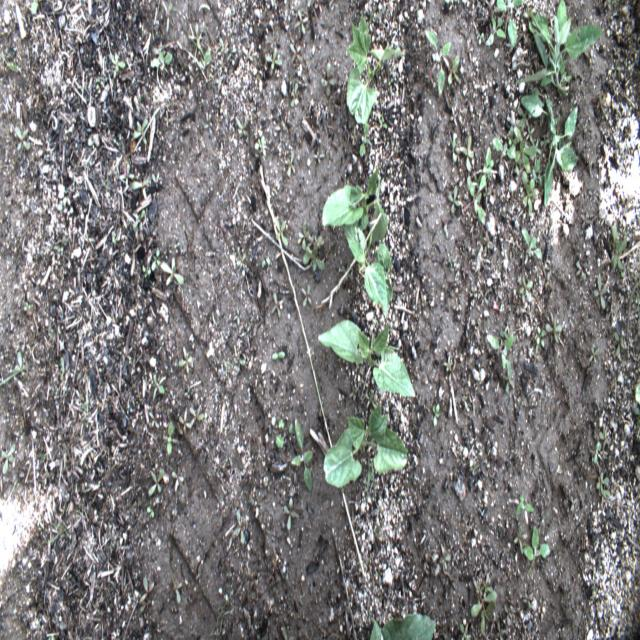crop: (321, 165, 392, 316), (318, 319, 416, 398), (322, 400, 409, 487), (346, 10, 401, 124), (368, 610, 436, 640)
weed: (526, 0, 604, 92), (522, 93, 578, 208), (424, 29, 452, 101), (293, 417, 314, 493), (469, 581, 497, 635), (484, 328, 517, 371), (496, 0, 523, 48), (522, 526, 551, 563), (610, 222, 628, 279), (522, 158, 550, 192), (160, 256, 185, 288), (512, 138, 536, 169), (6, 349, 28, 382), (521, 228, 543, 259), (522, 171, 538, 213), (491, 136, 518, 160), (478, 146, 492, 192), (486, 16, 507, 46), (132, 175, 155, 201), (471, 184, 485, 226), (321, 62, 337, 98), (231, 506, 246, 544), (306, 246, 326, 274), (148, 49, 172, 72), (283, 496, 299, 530), (303, 238, 323, 265), (544, 314, 562, 344), (164, 419, 178, 457), (0, 444, 16, 476), (513, 523, 528, 557), (592, 274, 606, 310), (516, 275, 534, 300), (187, 22, 203, 50), (148, 466, 162, 496), (274, 416, 286, 451), (152, 372, 166, 402), (274, 217, 288, 247), (139, 576, 154, 604), (170, 466, 185, 494), (463, 134, 474, 172), (596, 470, 610, 499), (293, 9, 309, 34), (449, 54, 461, 86), (264, 49, 282, 70), (450, 184, 462, 215), (298, 221, 310, 251), (118, 164, 134, 186), (16, 127, 30, 152), (178, 345, 190, 373), (479, 235, 494, 257), (111, 52, 126, 74), (613, 329, 624, 358), (360, 119, 368, 157), (515, 497, 534, 513), (270, 292, 282, 317), (508, 124, 521, 147), (198, 46, 209, 73), (504, 361, 514, 390), (272, 119, 288, 137), (301, 281, 312, 307), (190, 404, 203, 425), (240, 45, 255, 63), (290, 42, 302, 64), (518, 106, 530, 128), (592, 440, 602, 466), (132, 120, 146, 138), (173, 577, 182, 605), (588, 346, 601, 365), (597, 430, 610, 448), (235, 118, 248, 136), (363, 391, 376, 409), (610, 58, 621, 79), (236, 247, 246, 270), (441, 547, 451, 570), (134, 208, 146, 227), (458, 623, 472, 639), (286, 150, 294, 178), (341, 266, 354, 283), (378, 109, 388, 131), (254, 136, 266, 154), (521, 592, 533, 610), (483, 578, 493, 599), (536, 326, 546, 347), (451, 132, 459, 158), (291, 83, 299, 108), (312, 150, 326, 164), (632, 404, 640, 428), (348, 383, 360, 399), (580, 211, 591, 228), (272, 349, 286, 362), (503, 604, 512, 624), (152, 248, 160, 270), (533, 342, 540, 367), (433, 404, 440, 428), (60, 354, 66, 382), (232, 357, 246, 369), (575, 261, 586, 276), (442, 354, 452, 370), (543, 271, 551, 291), (496, 620, 504, 639), (29, 0, 39, 15), (526, 125, 534, 143), (600, 93, 606, 116), (351, 125, 357, 147), (540, 134, 551, 146), (474, 582, 484, 595), (142, 263, 150, 279), (146, 506, 155, 520), (261, 256, 270, 270), (588, 190, 598, 202), (478, 30, 484, 46), (23, 304, 32, 311), (604, 0, 612, 6)
